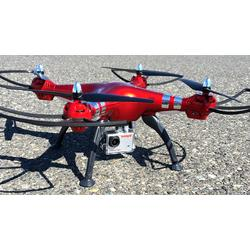drone: (1, 63, 250, 187)
